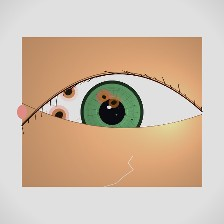foreign_body_visible: (100, 91, 128, 114)
